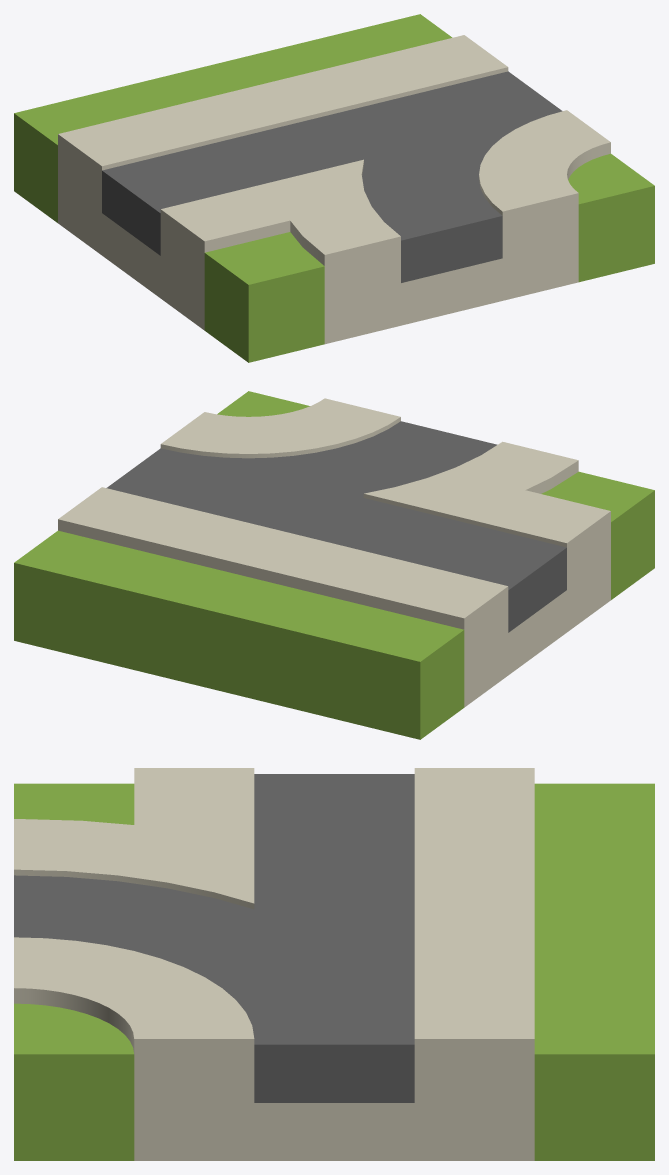
Rendered from roadTile_033.obj.
The picture shows the model from 3 angles, top to bottom: view 1: azimuth 30°, elevation 25°; view 2: azimuth 150°, elevation 25°; view 3: azimuth 270°, elevation 25°; orthographic projection. The views are drawn at different scales.
Visible parts, largest first — view 1: Mesh1_Group1_Model.302; view 2: Mesh1_Group1_Model.302; view 3: Mesh1_Group1_Model.302.
Part boxes in pixels (x1,y1,x2,y2): Mesh1_Group1_Model.302: [14, 14, 654, 362]; Mesh1_Group1_Model.302: [14, 391, 654, 739]; Mesh1_Group1_Model.302: [14, 768, 654, 1160].
Size of the model in its own units: 3 by 0.63 by 3.
